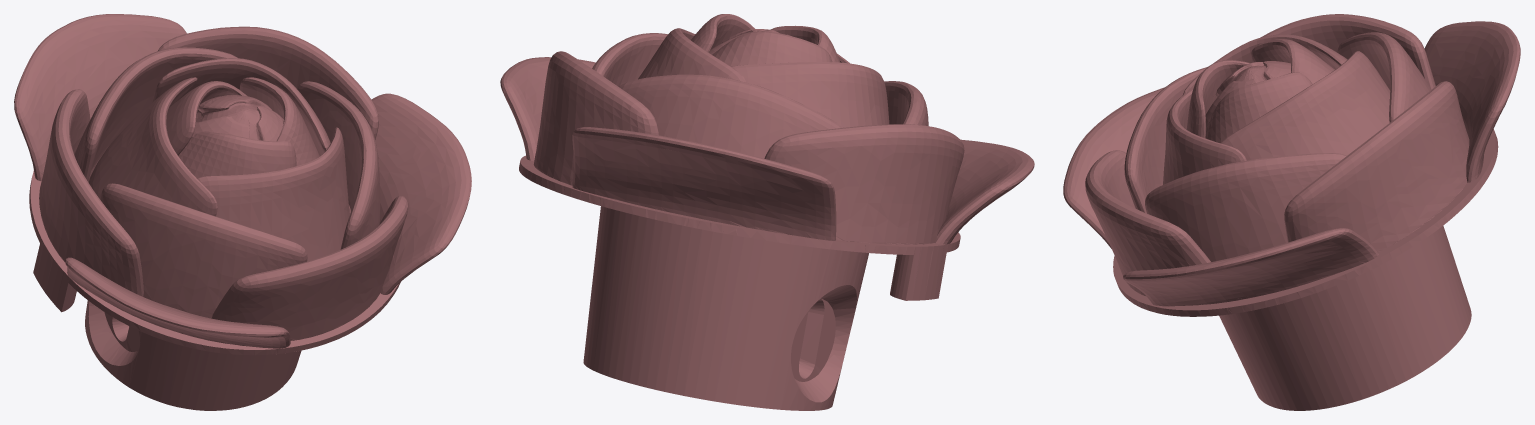
File: frontpanel_rose.glb
3 views of the same model, side by side, from view 1: azimuth 30°, elevation 25°; view 2: azimuth 150°, elevation 25°; view 3: azimuth 270°, elevation 25° (orthographic). The views are drawn at different scales.
Bounding box in the file's own units: 0.0458 × 0.0344 × 0.0427.
